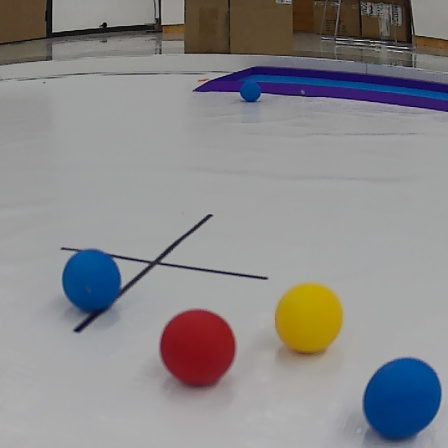blue: (364, 354, 442, 441), (63, 243, 127, 315), (239, 79, 264, 102)
blue_aim: (197, 59, 448, 117)
red: (159, 310, 237, 386)
yellow: (273, 281, 345, 356)
